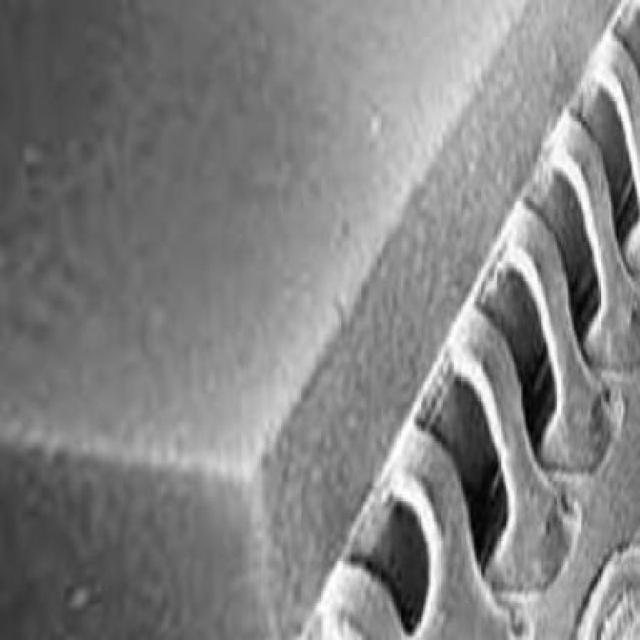Soldering shorted: (298, 462, 514, 630)
